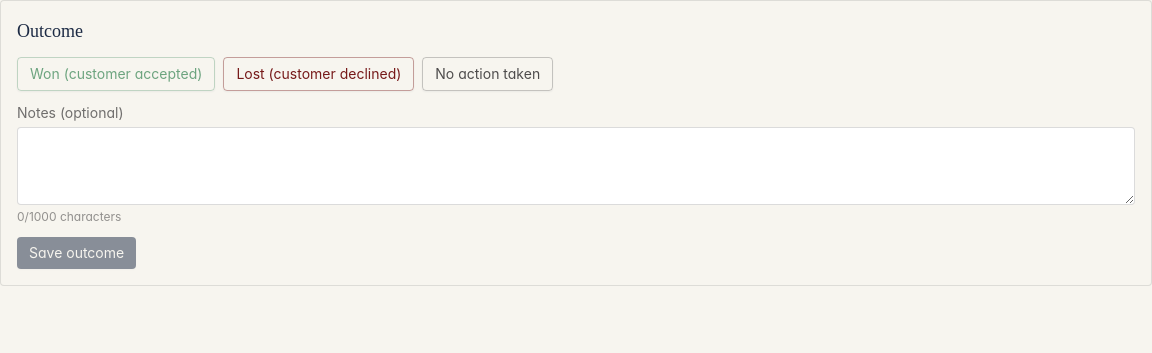
Test: OutcomeCaptureSection (HUB-1641) › AC#4/#5 — submit POSTs to the BE outcome endpoint + onCaptured callback › Save outcome posts {outcome_type, notes} and clears the draft on success
Click the button with test id "outcome-button-won" at (116, 74), box [17,57,215,91]
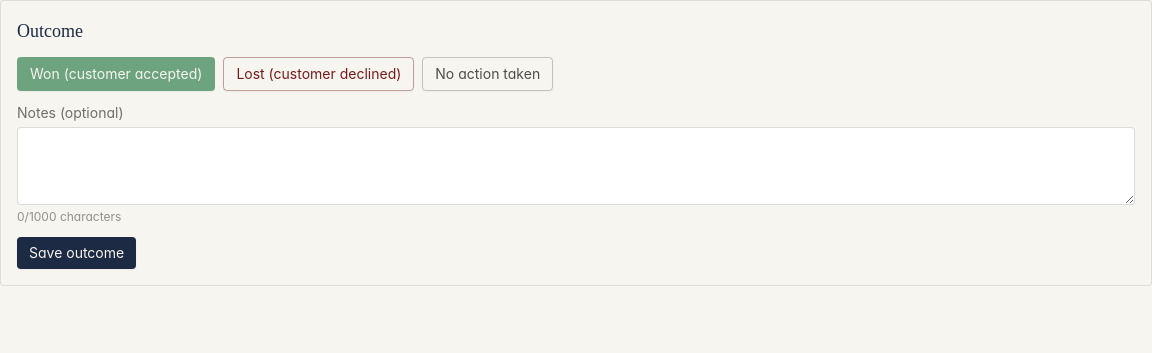
Type "Customer signed annual contract." into the text box with test id "outcome-note-textarea" at (576, 166), box [17,127,1135,205]
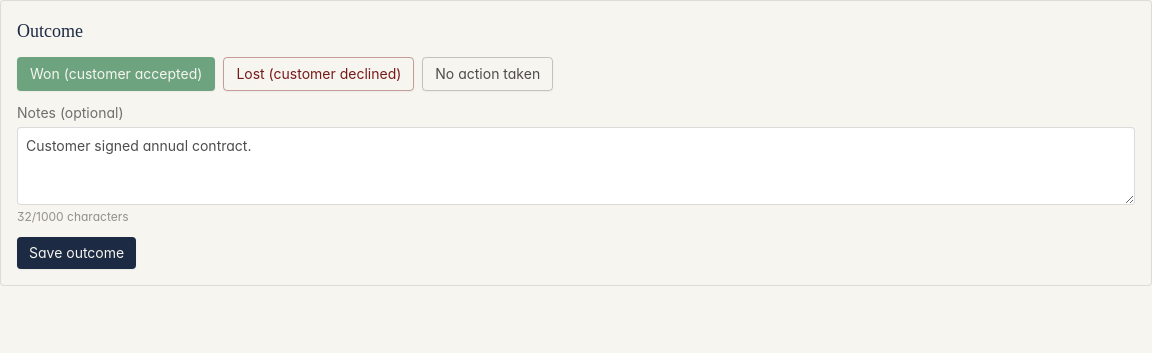
Click the button with test id "outcome-submit-button" at (77, 253), box [17,237,136,269]
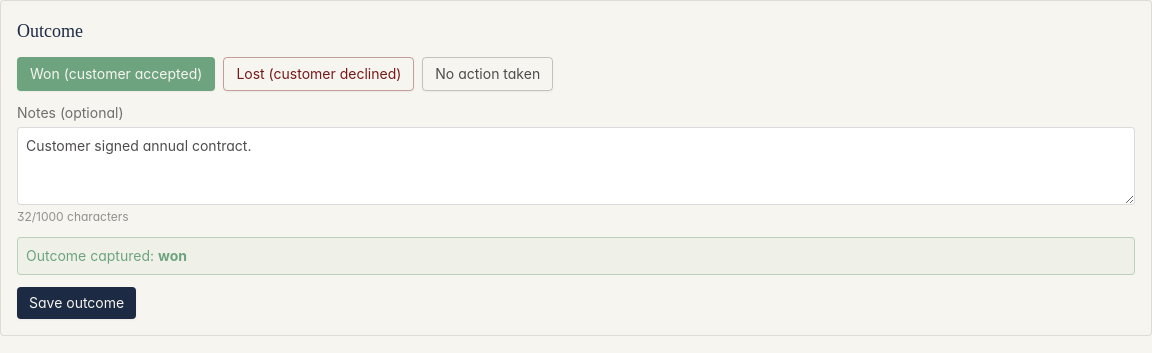
Expected: the message "Outcome captured: won" is shown, [17,237,1135,275]
